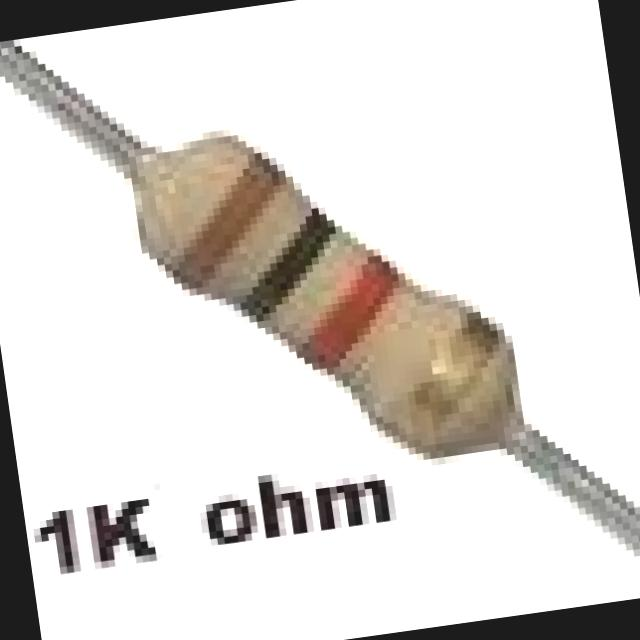Resistor: (136, 132, 517, 452)
black: (248, 204, 349, 340)
brown: (167, 158, 293, 298)
gold: (389, 317, 506, 455)
red: (295, 248, 401, 382)
